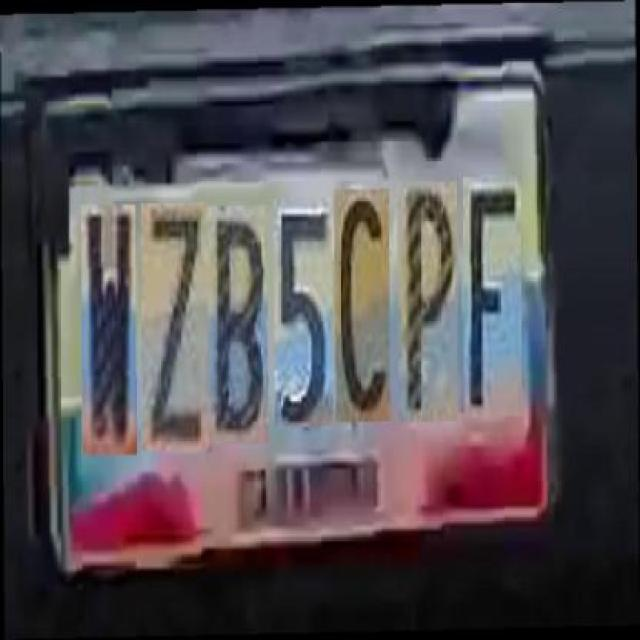5: (273, 192, 332, 420)
b: (206, 198, 266, 434)
c: (334, 184, 388, 416)
f: (462, 174, 520, 415)
p: (397, 178, 455, 418)
w: (79, 193, 135, 444)
z: (139, 194, 207, 441)
